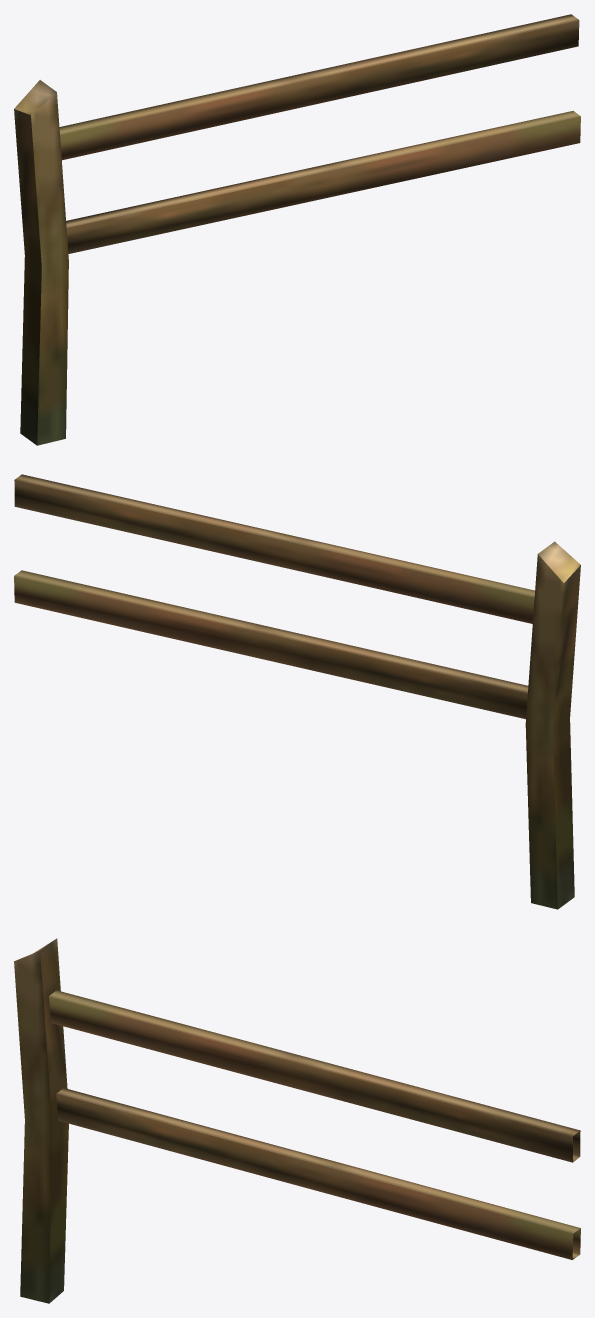
The model's file is general_obj_fence03.fbx.
3 views of the same model, one above another, from view 1: azimuth 30°, elevation 25°; view 2: azimuth 150°, elevation 25°; view 3: azimuth 330°, elevation 25° (orthographic).
Parts seen in each view (by area): view 1: Sphere01; view 2: Sphere01; view 3: Sphere01.
Part boxes in pixels (x1,y1,x2,y2): Sphere01: [14, 14, 580, 445]; Sphere01: [14, 474, 580, 909]; Sphere01: [14, 938, 580, 1303].
Size of the model in its own units: 3.77 by 2.27 by 0.2005.
